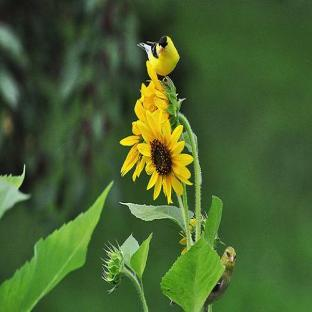sunflower: (119, 110, 194, 252)
